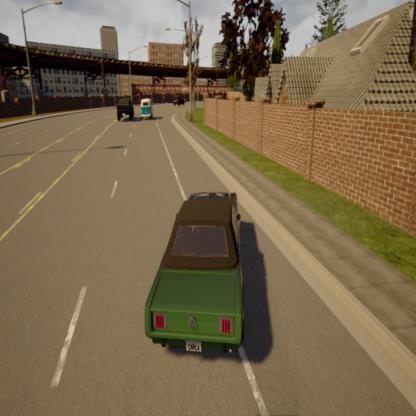Cars: (145, 191, 244, 354), (117, 96, 134, 119), (140, 96, 154, 118), (172, 93, 185, 105)
